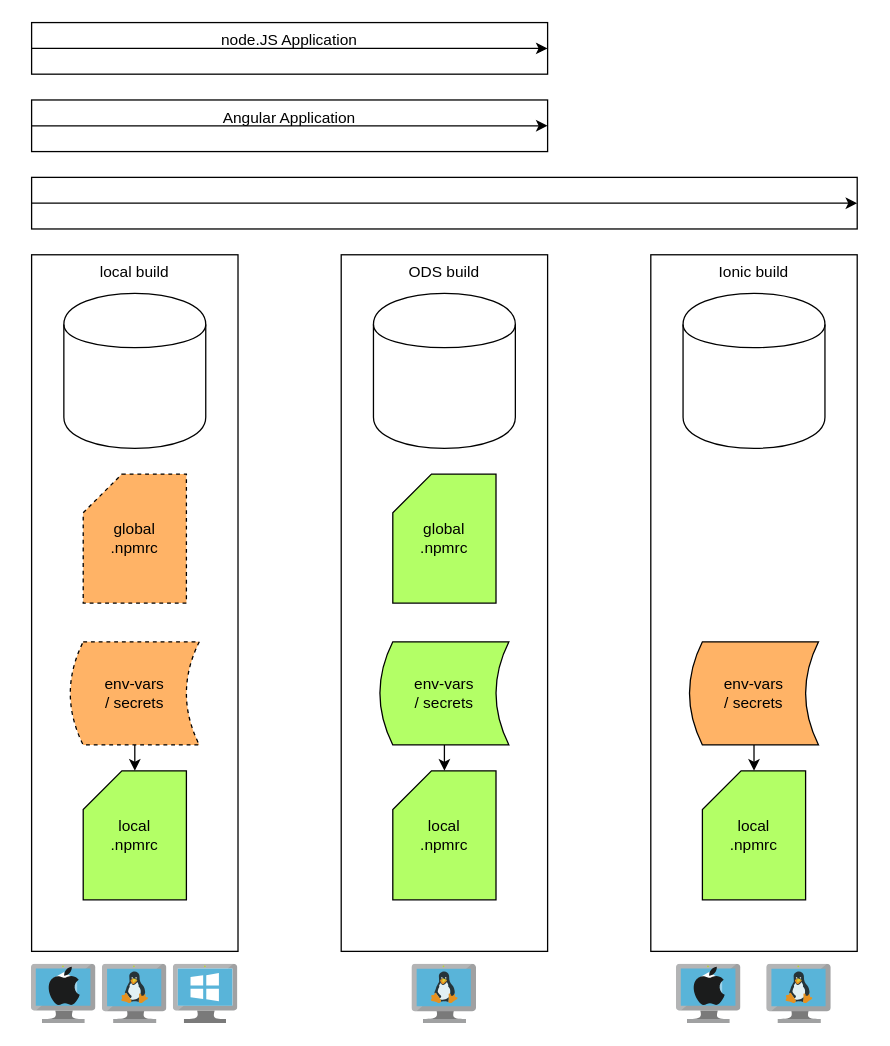
This 890x1046 diagram has some shape labels left out. Here are the shapes that lost their labels. From the top down, the centre of each, then its label:
point (443, 202): Ionic Application
point (134, 370): Developer Computer
point (443, 370): ODS Node Build Agent
point (753, 370): Ionic Build Agent
